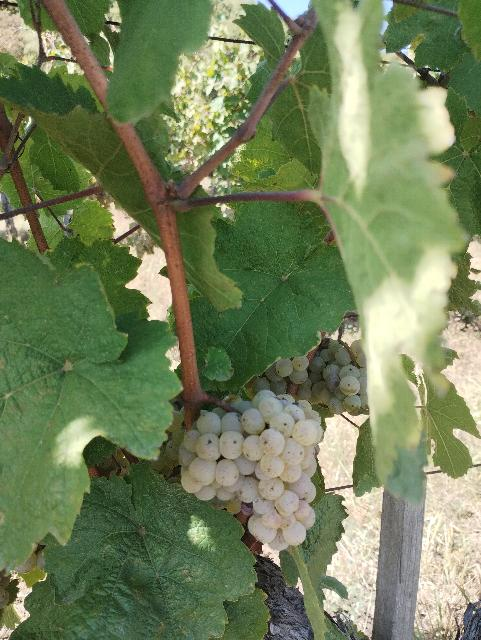grapes: (179, 390, 324, 551)
